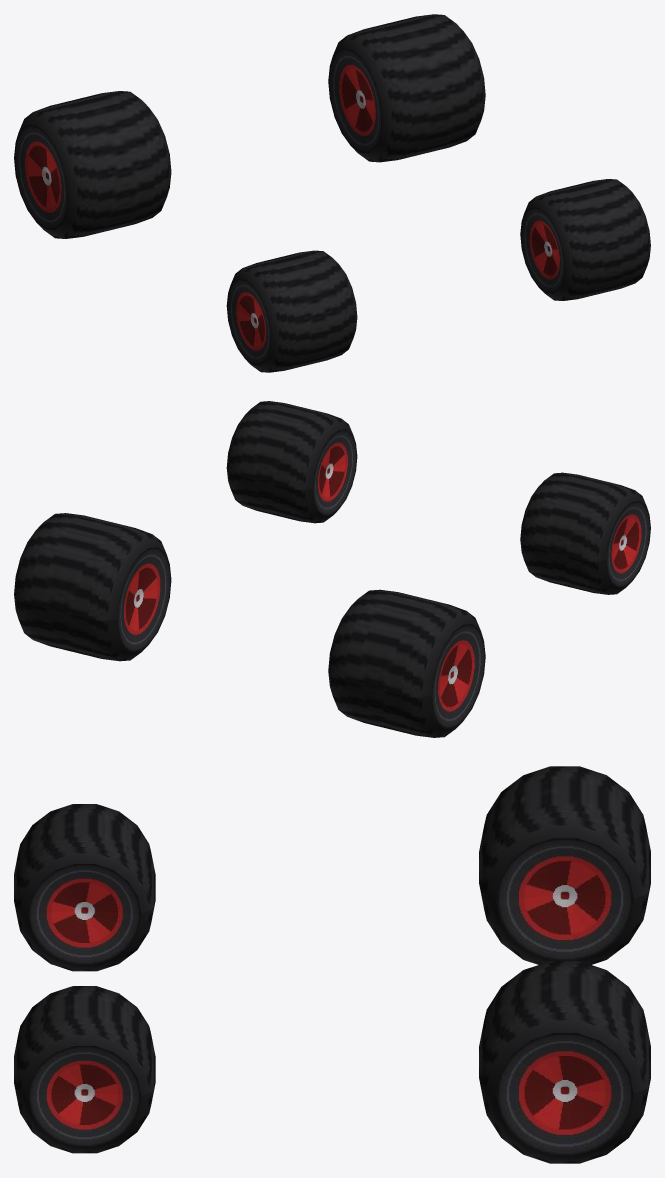
File: wheels_slick.glb
The picture shows the model from 3 angles, top to bottom: view 1: azimuth 30°, elevation 25°; view 2: azimuth 150°, elevation 25°; view 3: azimuth 270°, elevation 25°; orthographic projection. The views are drawn at different scales.
Visible parts, largest first — view 1: Wheel_R, Wheel_FL, Wheel_FR; view 2: Wheel_R, Wheel_FL, Wheel_FR; view 3: Wheel_R, Wheel_FR, Wheel_FL.
Part boxes in pixels (bbox=[...]): Wheel_R: bbox=[14, 14, 485, 238]; Wheel_FL: bbox=[226, 250, 357, 372]; Wheel_FR: bbox=[520, 179, 650, 300]; Wheel_R: bbox=[14, 513, 485, 737]; Wheel_FL: bbox=[520, 472, 650, 594]; Wheel_FR: bbox=[226, 401, 357, 523]; Wheel_R: bbox=[479, 766, 650, 1163]; Wheel_FR: bbox=[14, 986, 155, 1153]; Wheel_FL: bbox=[14, 804, 155, 971].
Bounding box in the file's own units: 2.42 × 0.6706 × 2.52.
Materials: 1 (1 with a texture image).
